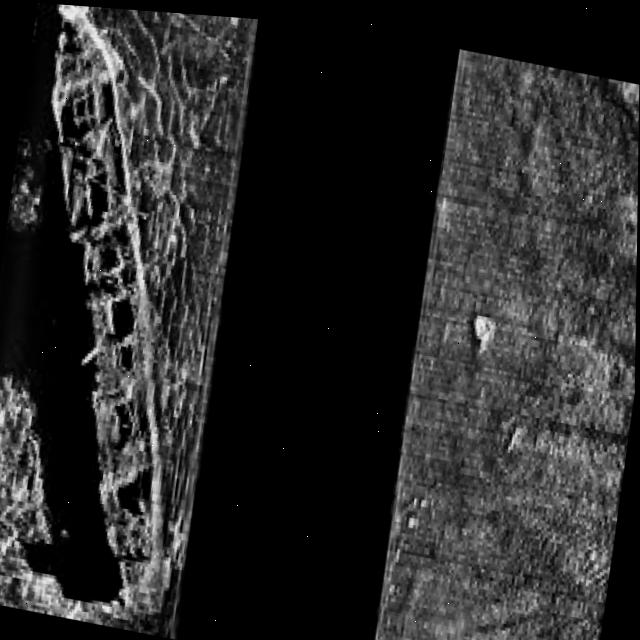shipwreck: (0, 0, 241, 628)
